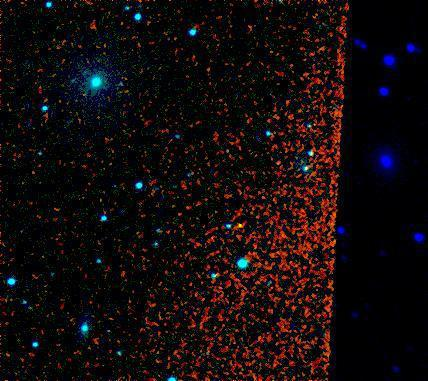star: (225, 210, 255, 240)
